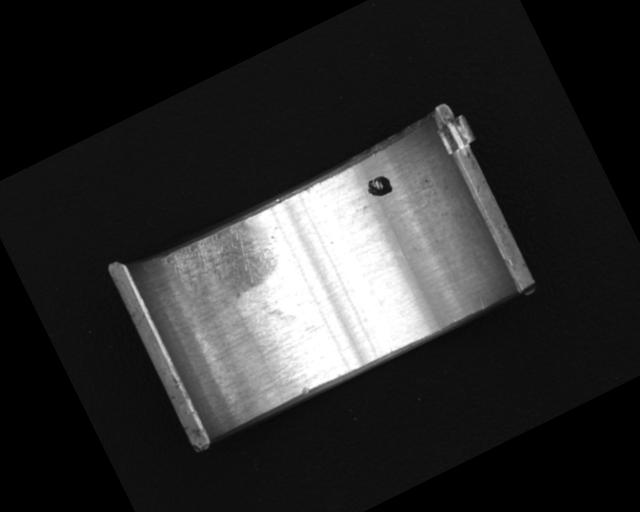blot: (363, 171, 395, 201)
bruise: (298, 384, 311, 397)
scratch: (157, 207, 294, 324)
